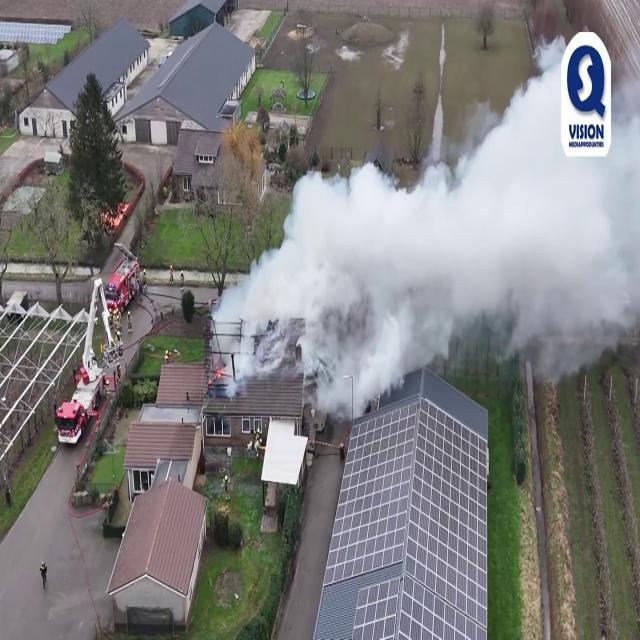Smoke: (219, 61, 640, 414)
